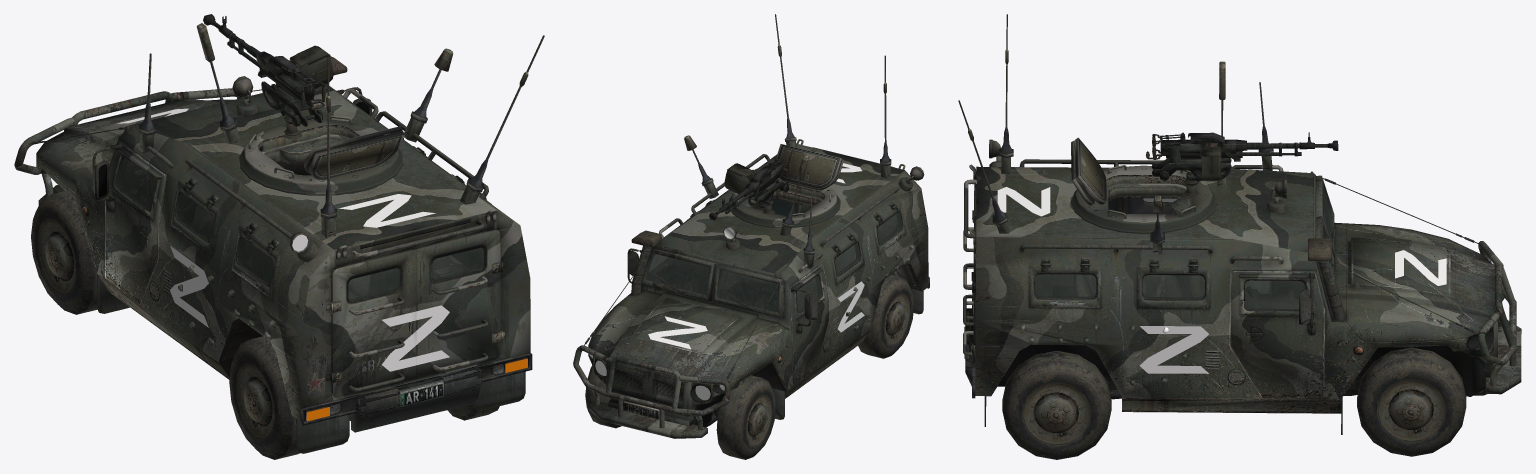
The picture shows the model from 3 angles, left to right: view 1: azimuth 30°, elevation 25°; view 2: azimuth 150°, elevation 25°; view 3: azimuth 270°, elevation 25°; orthographic projection. The views are drawn at different scales.
Parts seen in each view (by area): view 1: Material2 (×14), Material3; view 2: Material2 (×10), Material3; view 3: Material2 (×11).
Part boxes in pixels (<box>): Material2 (×14): <box>14,14,544,459</box>; Material3: <box>170,245,208,327</box>; Material2 (×10): <box>573,14,929,459</box>; Material3: <box>838,281,864,332</box>; Material2 (×11): <box>958,14,1521,459</box>.
Bounding box in the file's own units: 122 × 176 × 242.
Materials: 21 (16 with a texture image).
